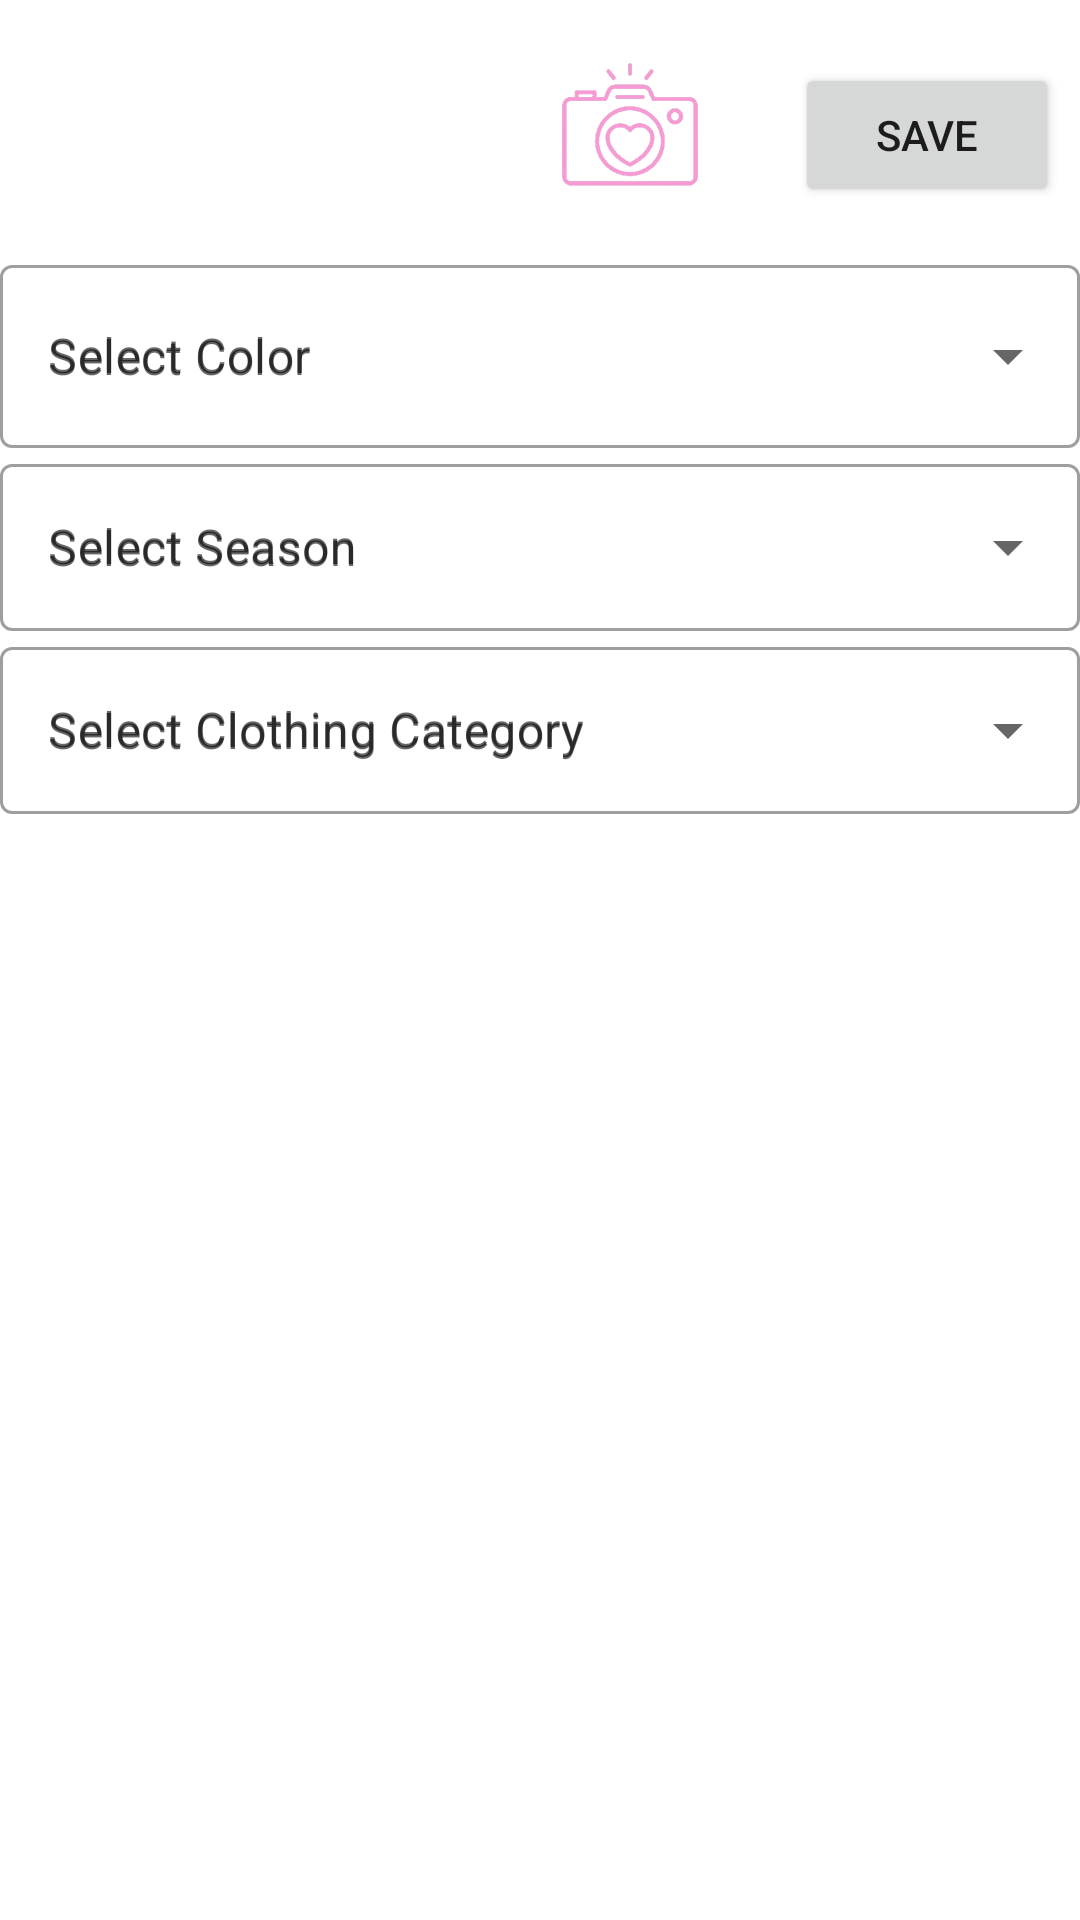

Locate icon controls on the screen. Image size 1080w x 1920h, boxes as (x1=x1, y1=y1, x2=x2, y2=y2).
camera: (x1=562, y1=63, x2=698, y2=186)
